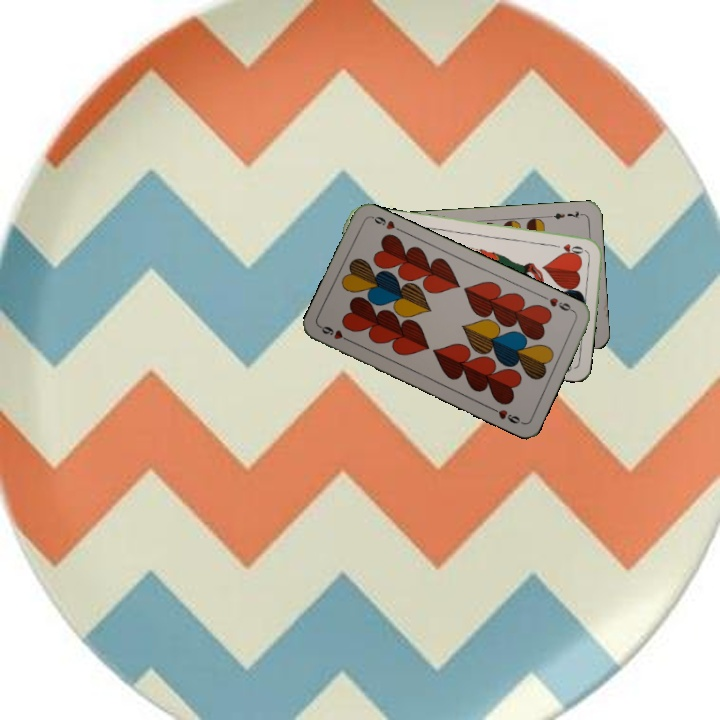E7: (545, 207, 586, 222)
H9: (316, 322, 355, 345), (539, 292, 577, 315)
HO: (548, 240, 589, 256)
